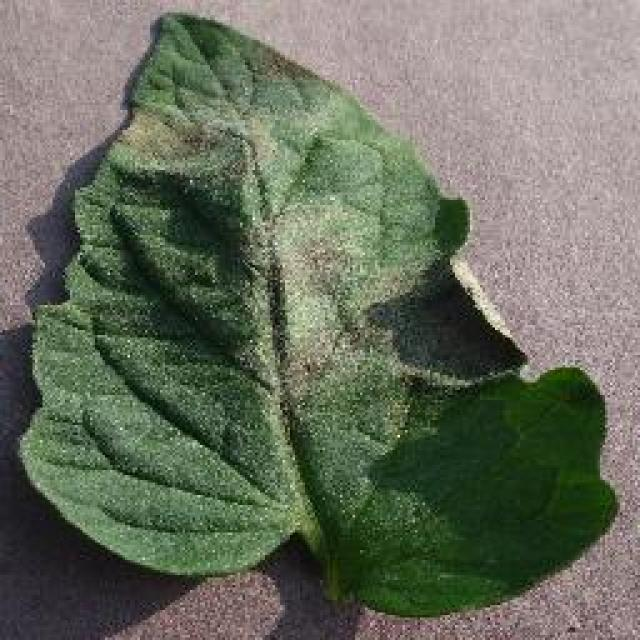Tomato Late Blight: (88, 65, 482, 478)
